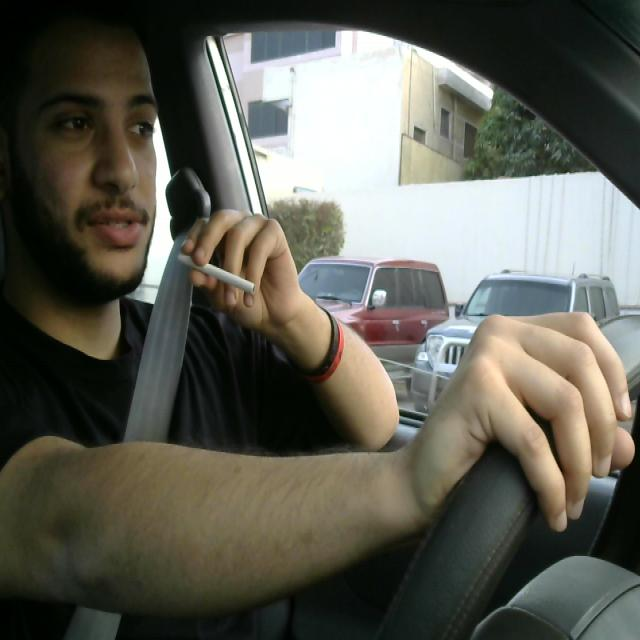smoking: (177, 244, 261, 310)
